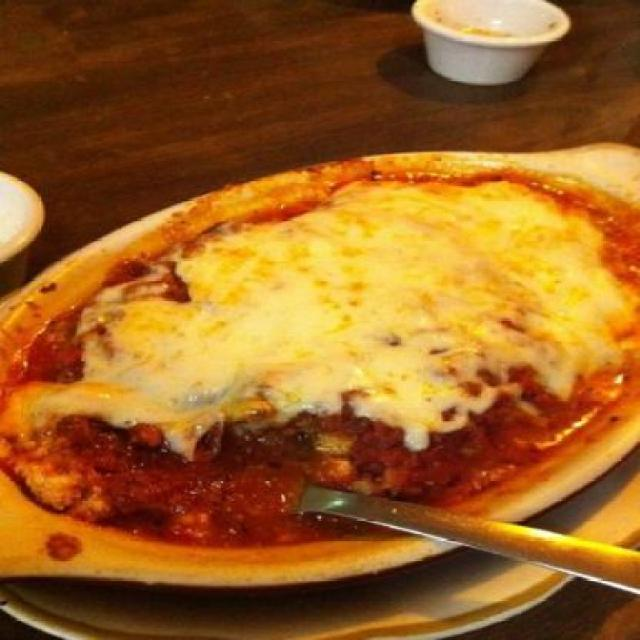Lasagna: (26, 165, 617, 538)
